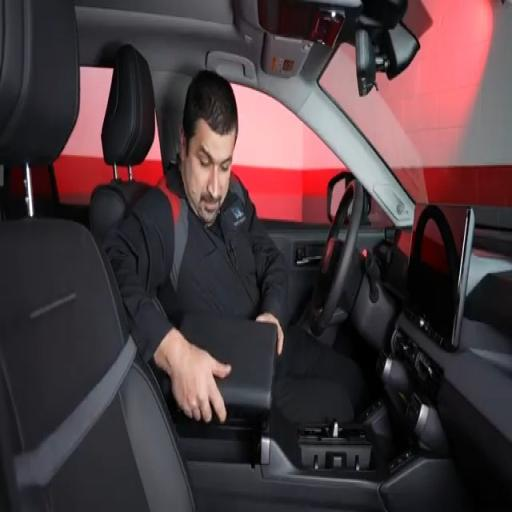side_mirror: (327, 171, 354, 221), (327, 171, 353, 221)
window: (232, 84, 343, 224)
windshield: (320, 0, 511, 206)
